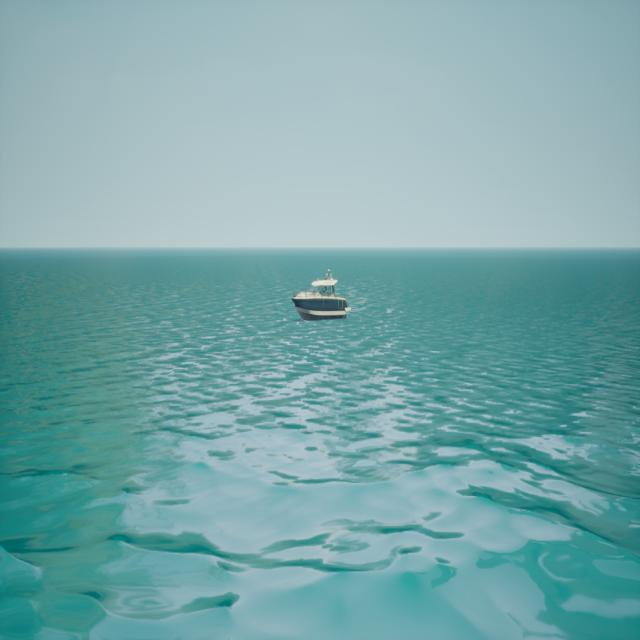ship: (290, 266, 349, 318)
